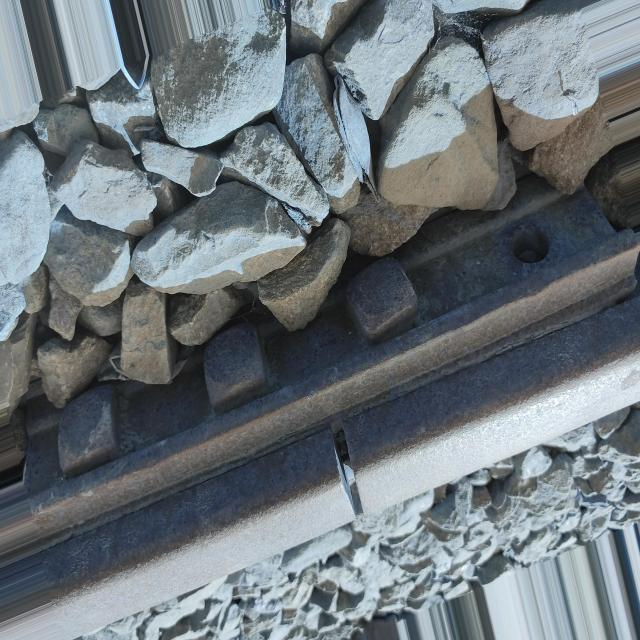Defective Joint: (17, 178, 640, 547)
